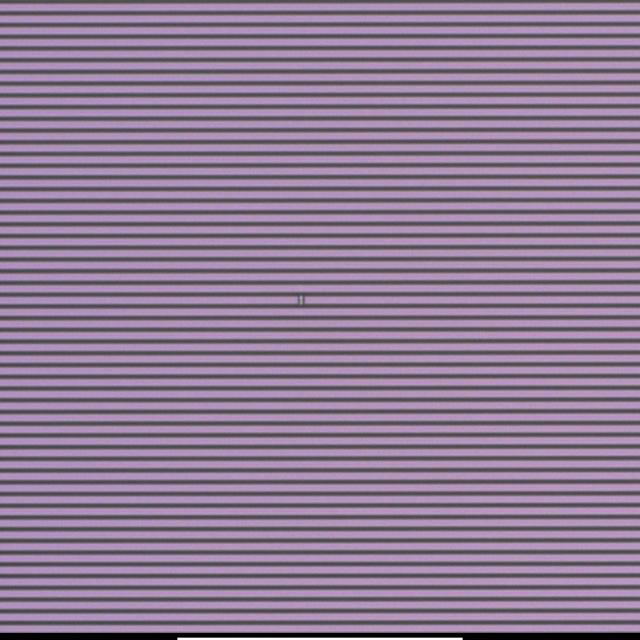03_intrusion: (296, 290, 306, 308)
